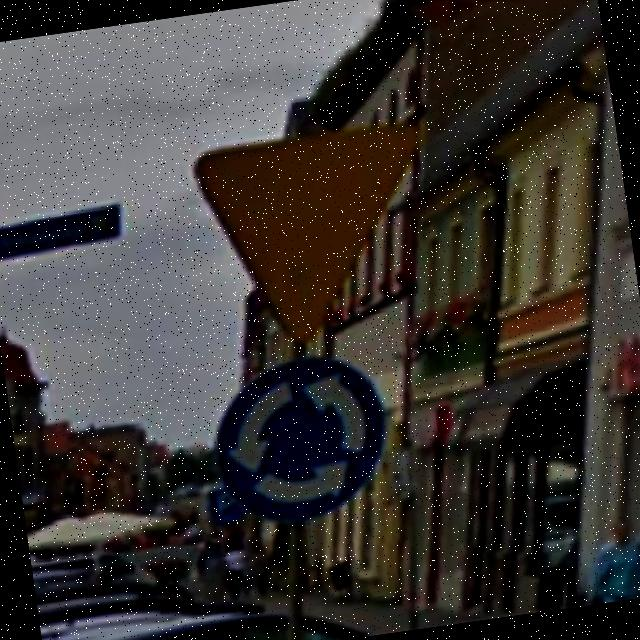Ustap pierwszenstwa: (188, 117, 452, 360)
